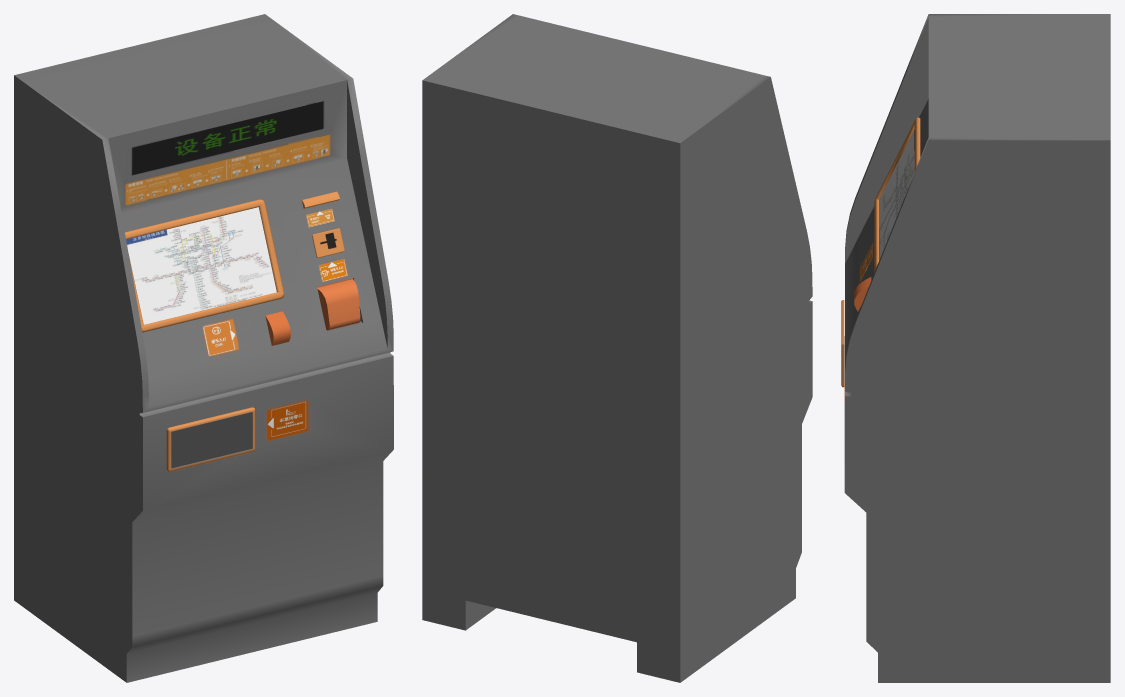
The model's file is Tvm_third_normal_GLB.glb.
The picture shows the model from 3 angles, left to right: view 1: azimuth 30°, elevation 25°; view 2: azimuth 150°, elevation 25°; view 3: azimuth 270°, elevation 25°; orthographic projection. The views are drawn at different scales.
Visible parts, largest first — view 1: frame_unit, Banknote_unit, coin_unit; view 2: frame_unit; view 3: frame_unit.
Boxes of the visible parts, x1,y1,x2,y2 form: frame_unit: (14, 14, 393, 682); Banknote_unit: (317, 278, 360, 330); coin_unit: (265, 311, 290, 345); frame_unit: (422, 14, 812, 682); frame_unit: (841, 14, 1110, 682).
Bounding box in the file's own units: 0.9 × 1.8 × 0.8109.
Materials: 6 (6 with a texture image).
